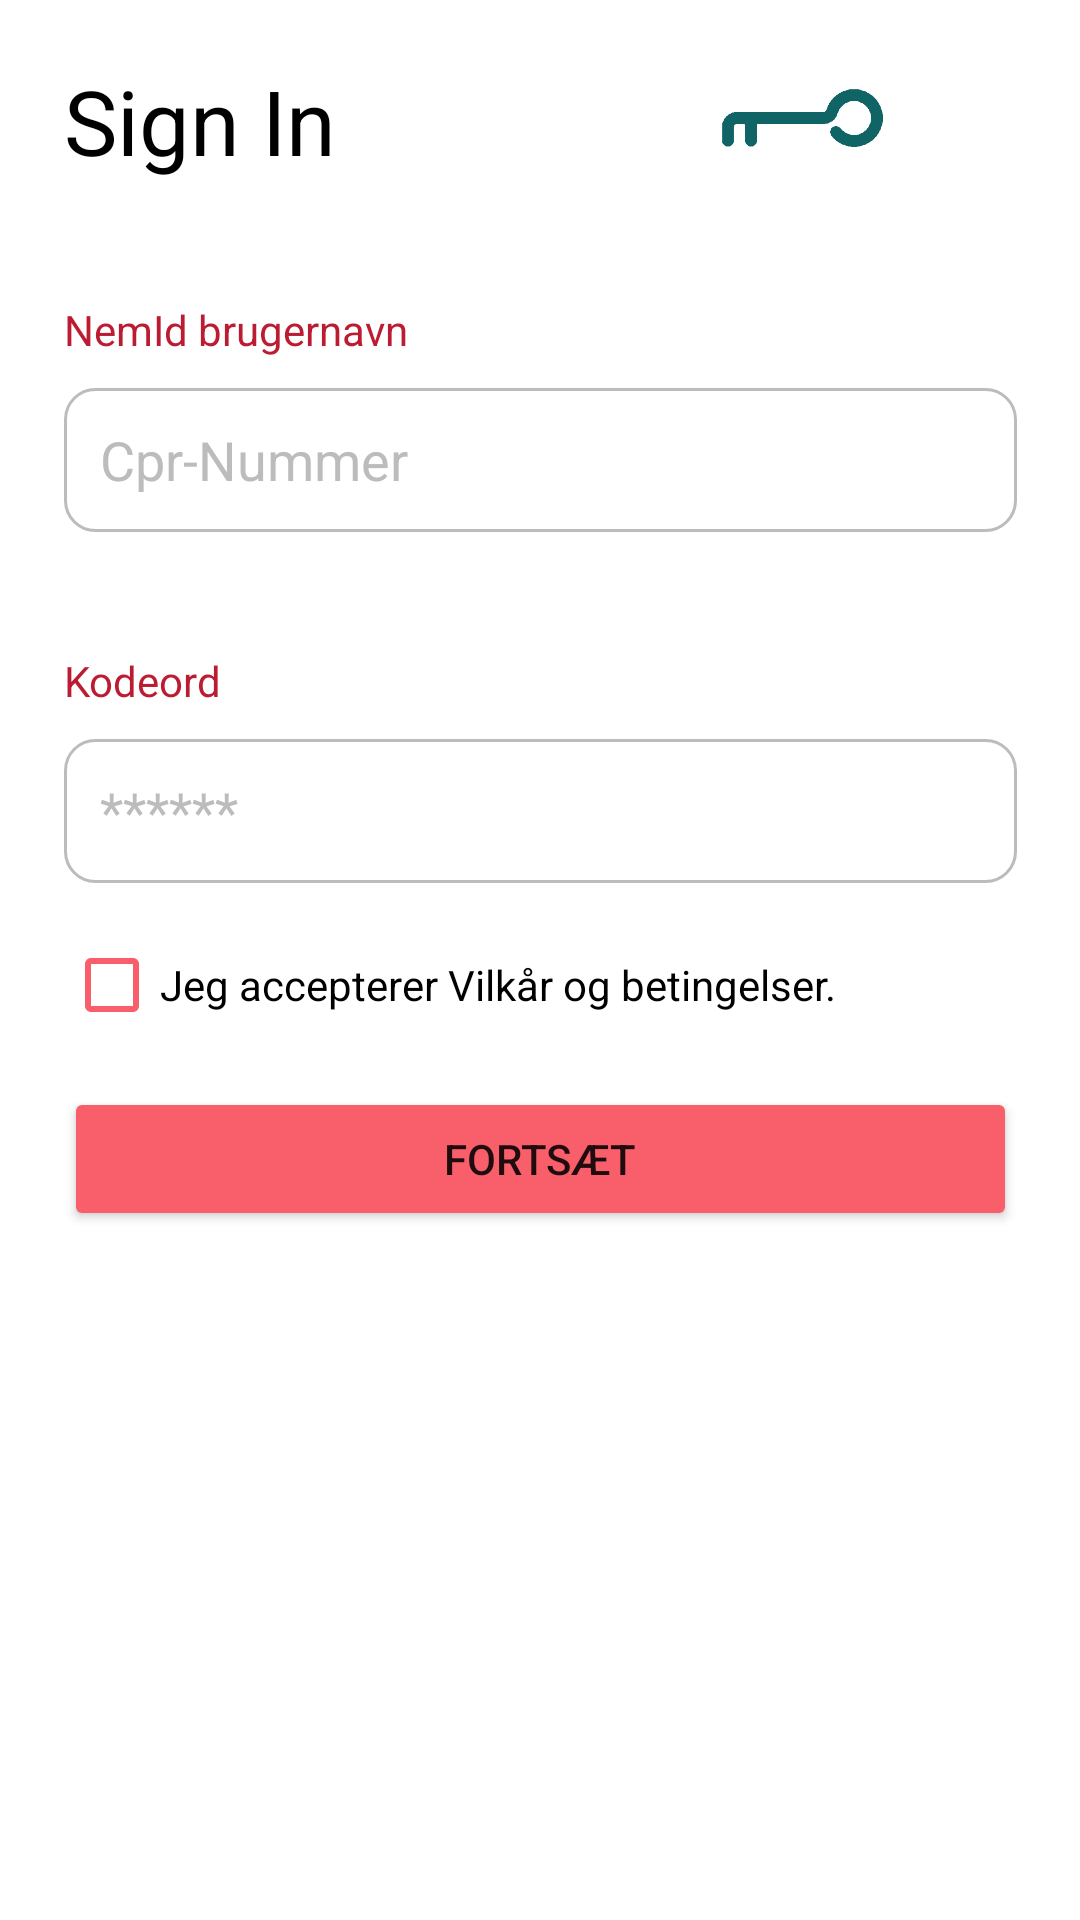

Icon bounding boxes for this 1080px x 1920px phone screenshot, format [x1, y1, x2, y2]:
nemid key: [722, 89, 883, 147]
